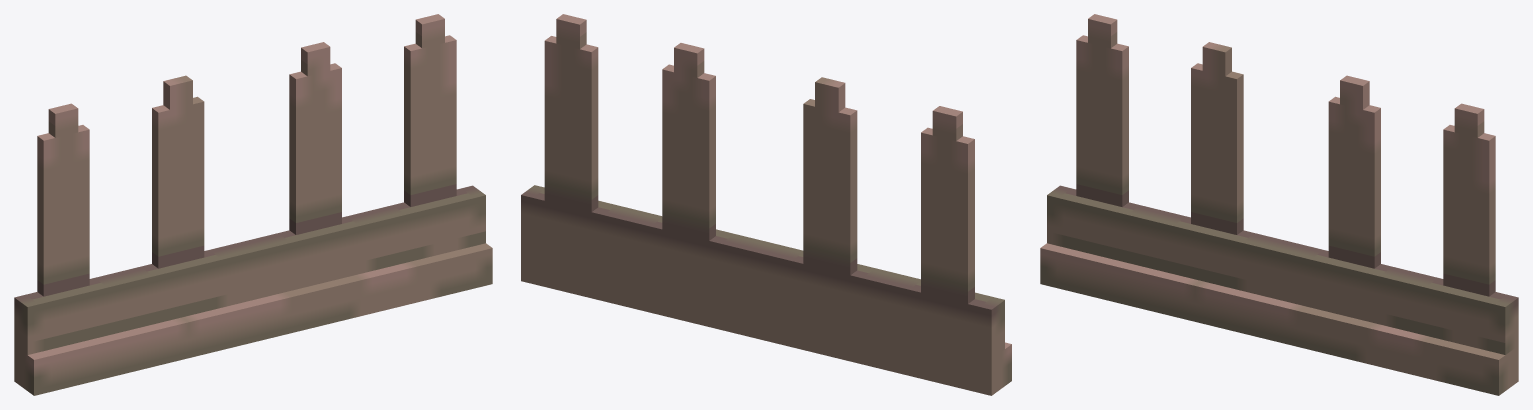
File: Decoration_Medium-1.fbx
3 renders of one model, left to right at view 1: azimuth 30°, elevation 25°; view 2: azimuth 150°, elevation 25°; view 3: azimuth 330°, elevation 25°, orthographic. The views are drawn at different scales.
Visible parts, largest first — view 1: Decoration_Medium-1; view 2: Decoration_Medium-1; view 3: Decoration_Medium-1.
Part boxes in pixels (<box>): Decoration_Medium-1: <box>14,14,492,395</box>; Decoration_Medium-1: <box>521,14,1011,395</box>; Decoration_Medium-1: <box>1040,14,1518,395</box>.
Size of the model in its own units: 200 by 110 by 15.
